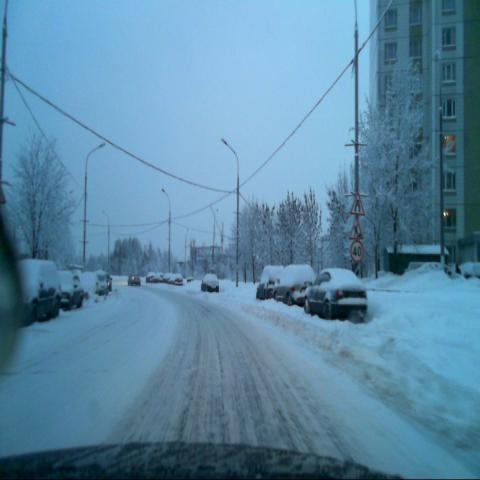1_20: (350, 189, 366, 216)
